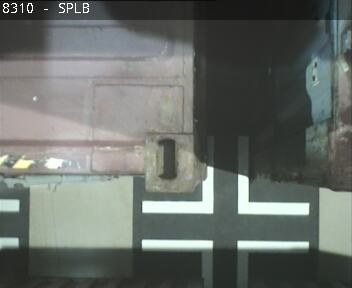groundmarker_1: (141, 137, 309, 216), (142, 239, 309, 288)
